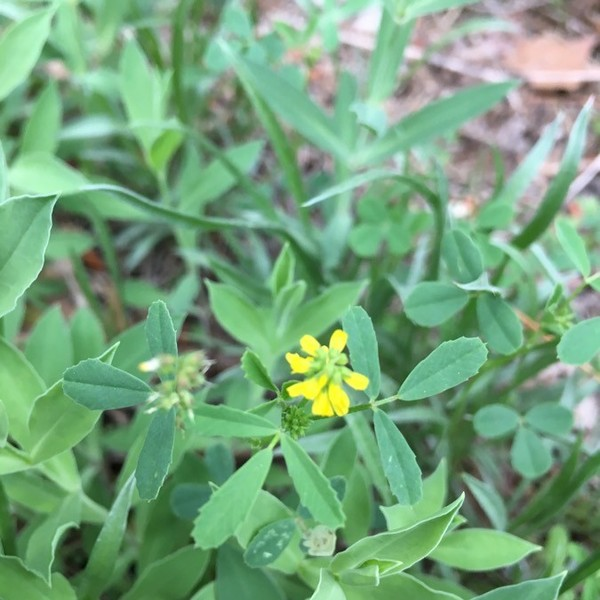obstacle: (113, 176, 508, 569)
